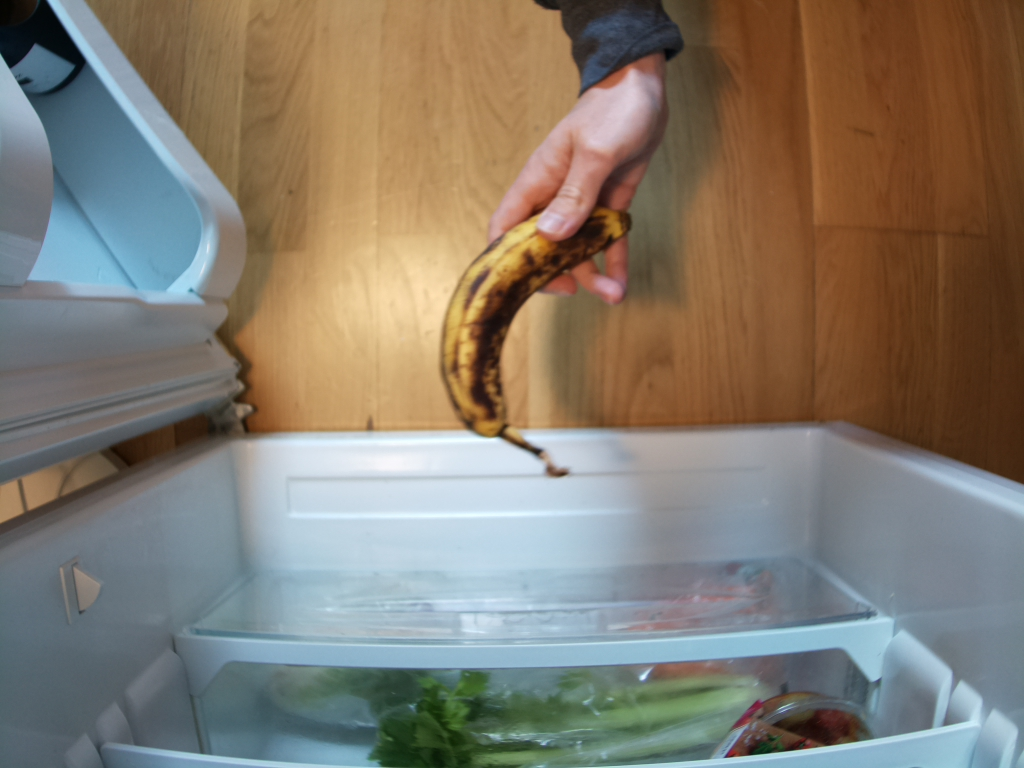banana-overripe: (436, 208, 626, 477)
